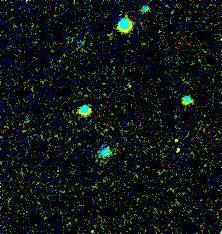star: (164, 117, 194, 147)
